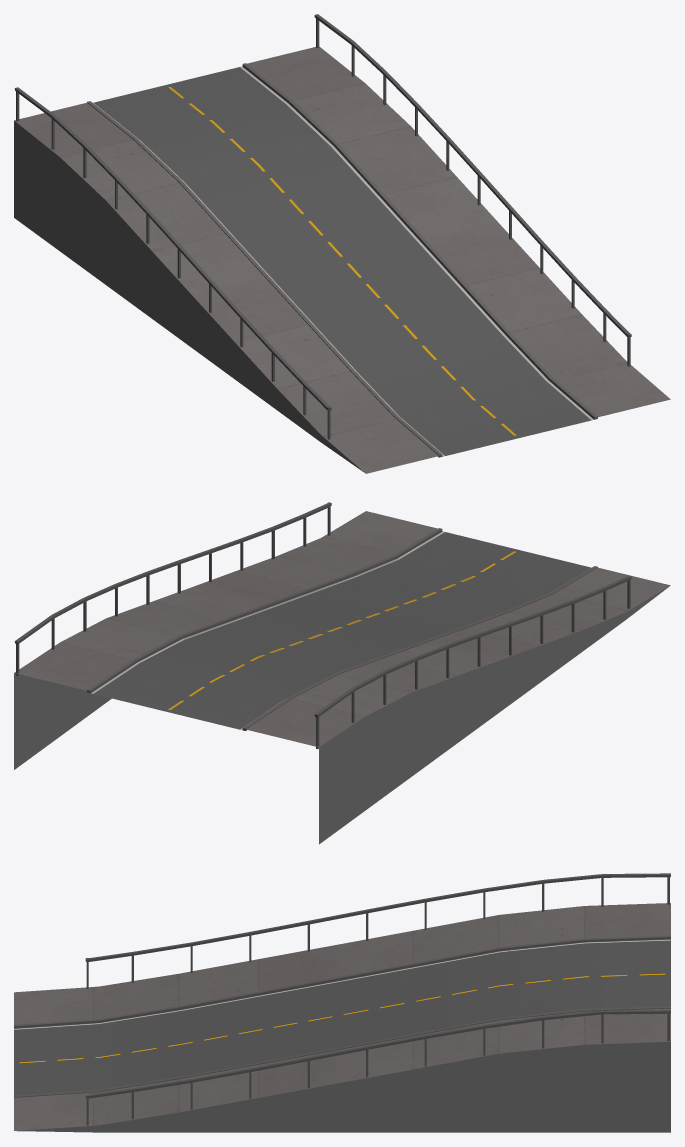
Rendered from SM_Floor_Road_08.fbx.
The picture shows the model from 3 angles, top to bottom: view 1: azimuth 30°, elevation 25°; view 2: azimuth 150°, elevation 25°; view 3: azimuth 270°, elevation 25°; orthographic projection. The views are drawn at different scales.
Parts seen in each view (by area): view 1: SM_Floor_Road_08; view 2: SM_Floor_Road_08; view 3: SM_Floor_Road_08.
Part boxes in pixels (box(x1,y1,x2,y2)): SM_Floor_Road_08: box(14, 14, 670, 473); SM_Floor_Road_08: box(14, 502, 670, 844); SM_Floor_Road_08: box(14, 873, 670, 1132).
Bounding box in the file's own units: 10 × 4.06 × 20.
